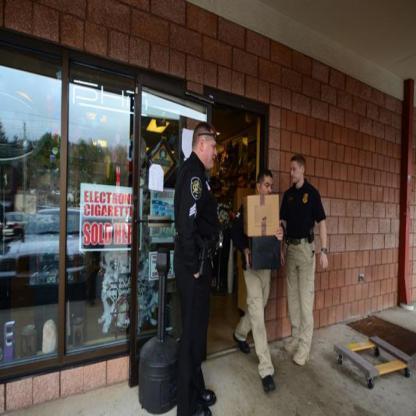face: (202, 135, 218, 168), (261, 177, 273, 201), (292, 162, 302, 183), (239, 177, 245, 190)
